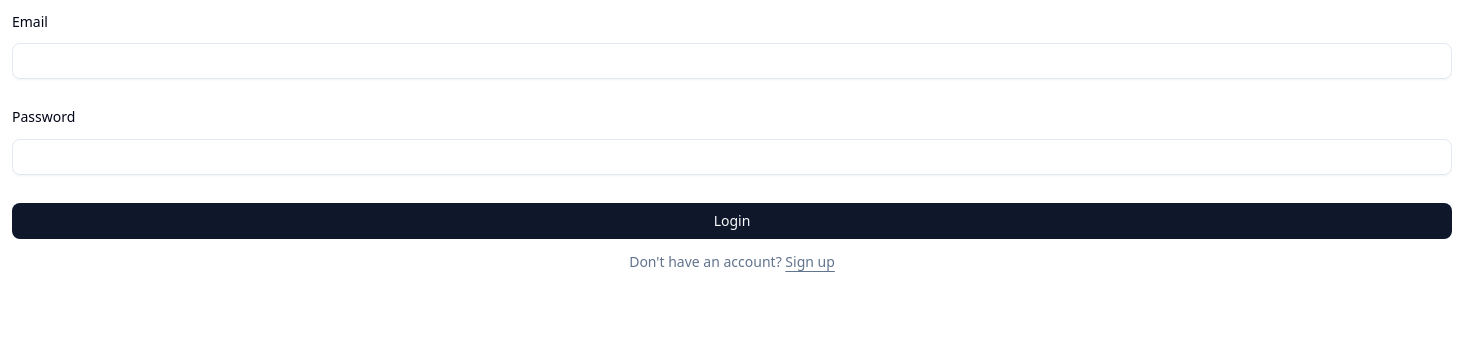
Test: LoginForm › when fields are empty › should render validation errors
The image size is (1464, 353).
Step 1. Click the button "Login" → (732, 220), box left=12, top=202, right=1452, bottom=238
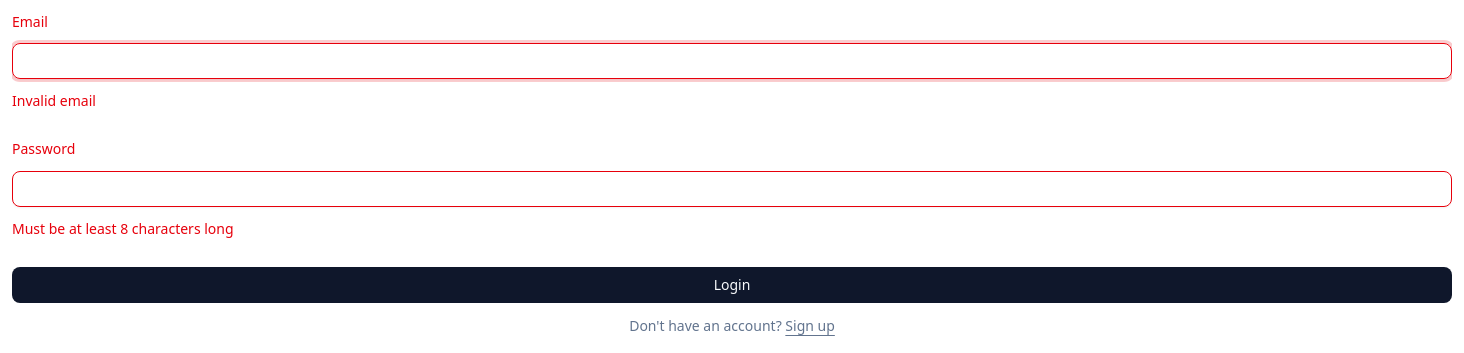
Expected: the text "Invalid email" is shown, left=12, top=91, right=96, bottom=110
Expected: the text "Must be at least 8 characters long" is shown, left=12, top=218, right=234, bottom=238
